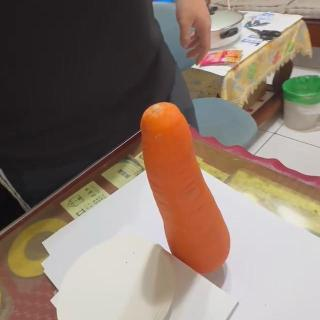carrot: (141, 102, 231, 274)
